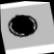correct: (5, 9, 43, 41)
